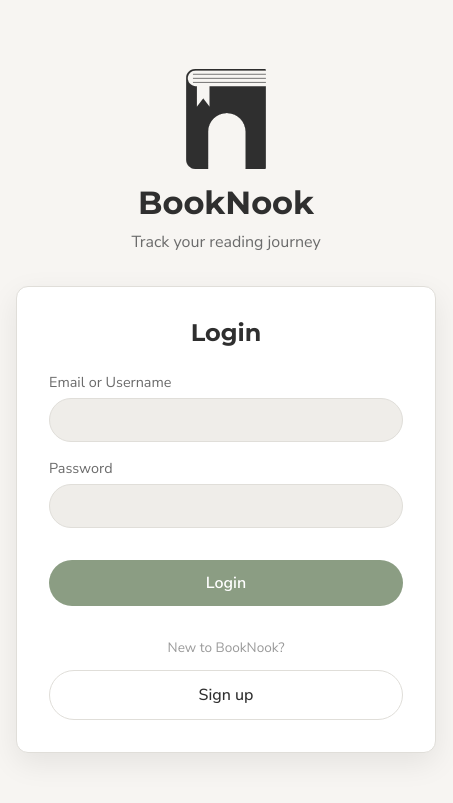
Test: Authentication Flow Integration › navigates from login to register page
This screenshot has width=453, height=803.
Click the link "Sign up".
click(226, 695)  # box [49,670,403,720]
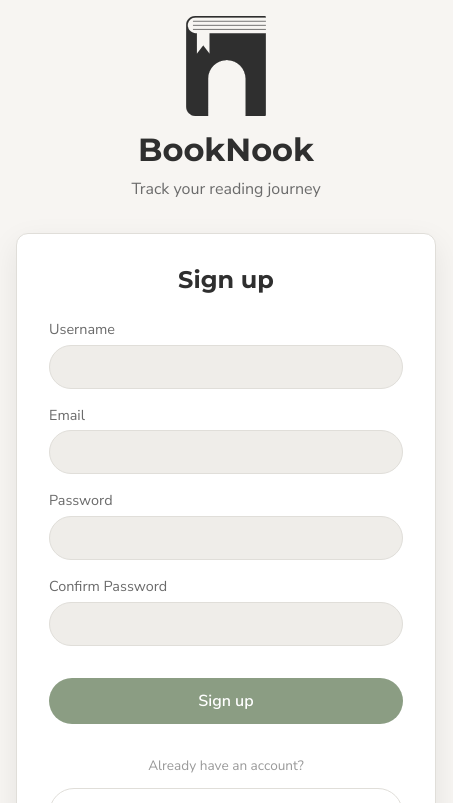
Expected: the heading "Sign up" is shown, [178,265,274,294]
